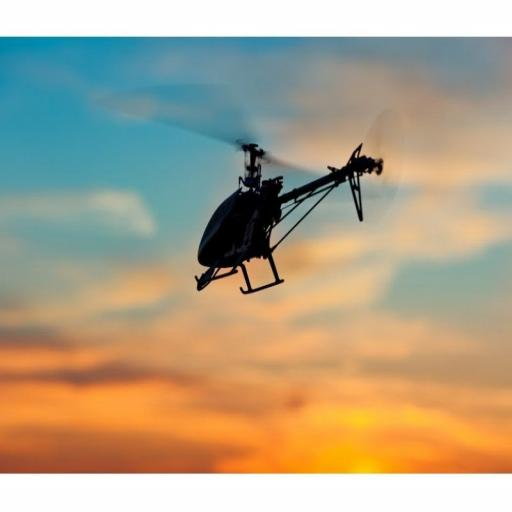helicopter: (121, 94, 388, 296)
